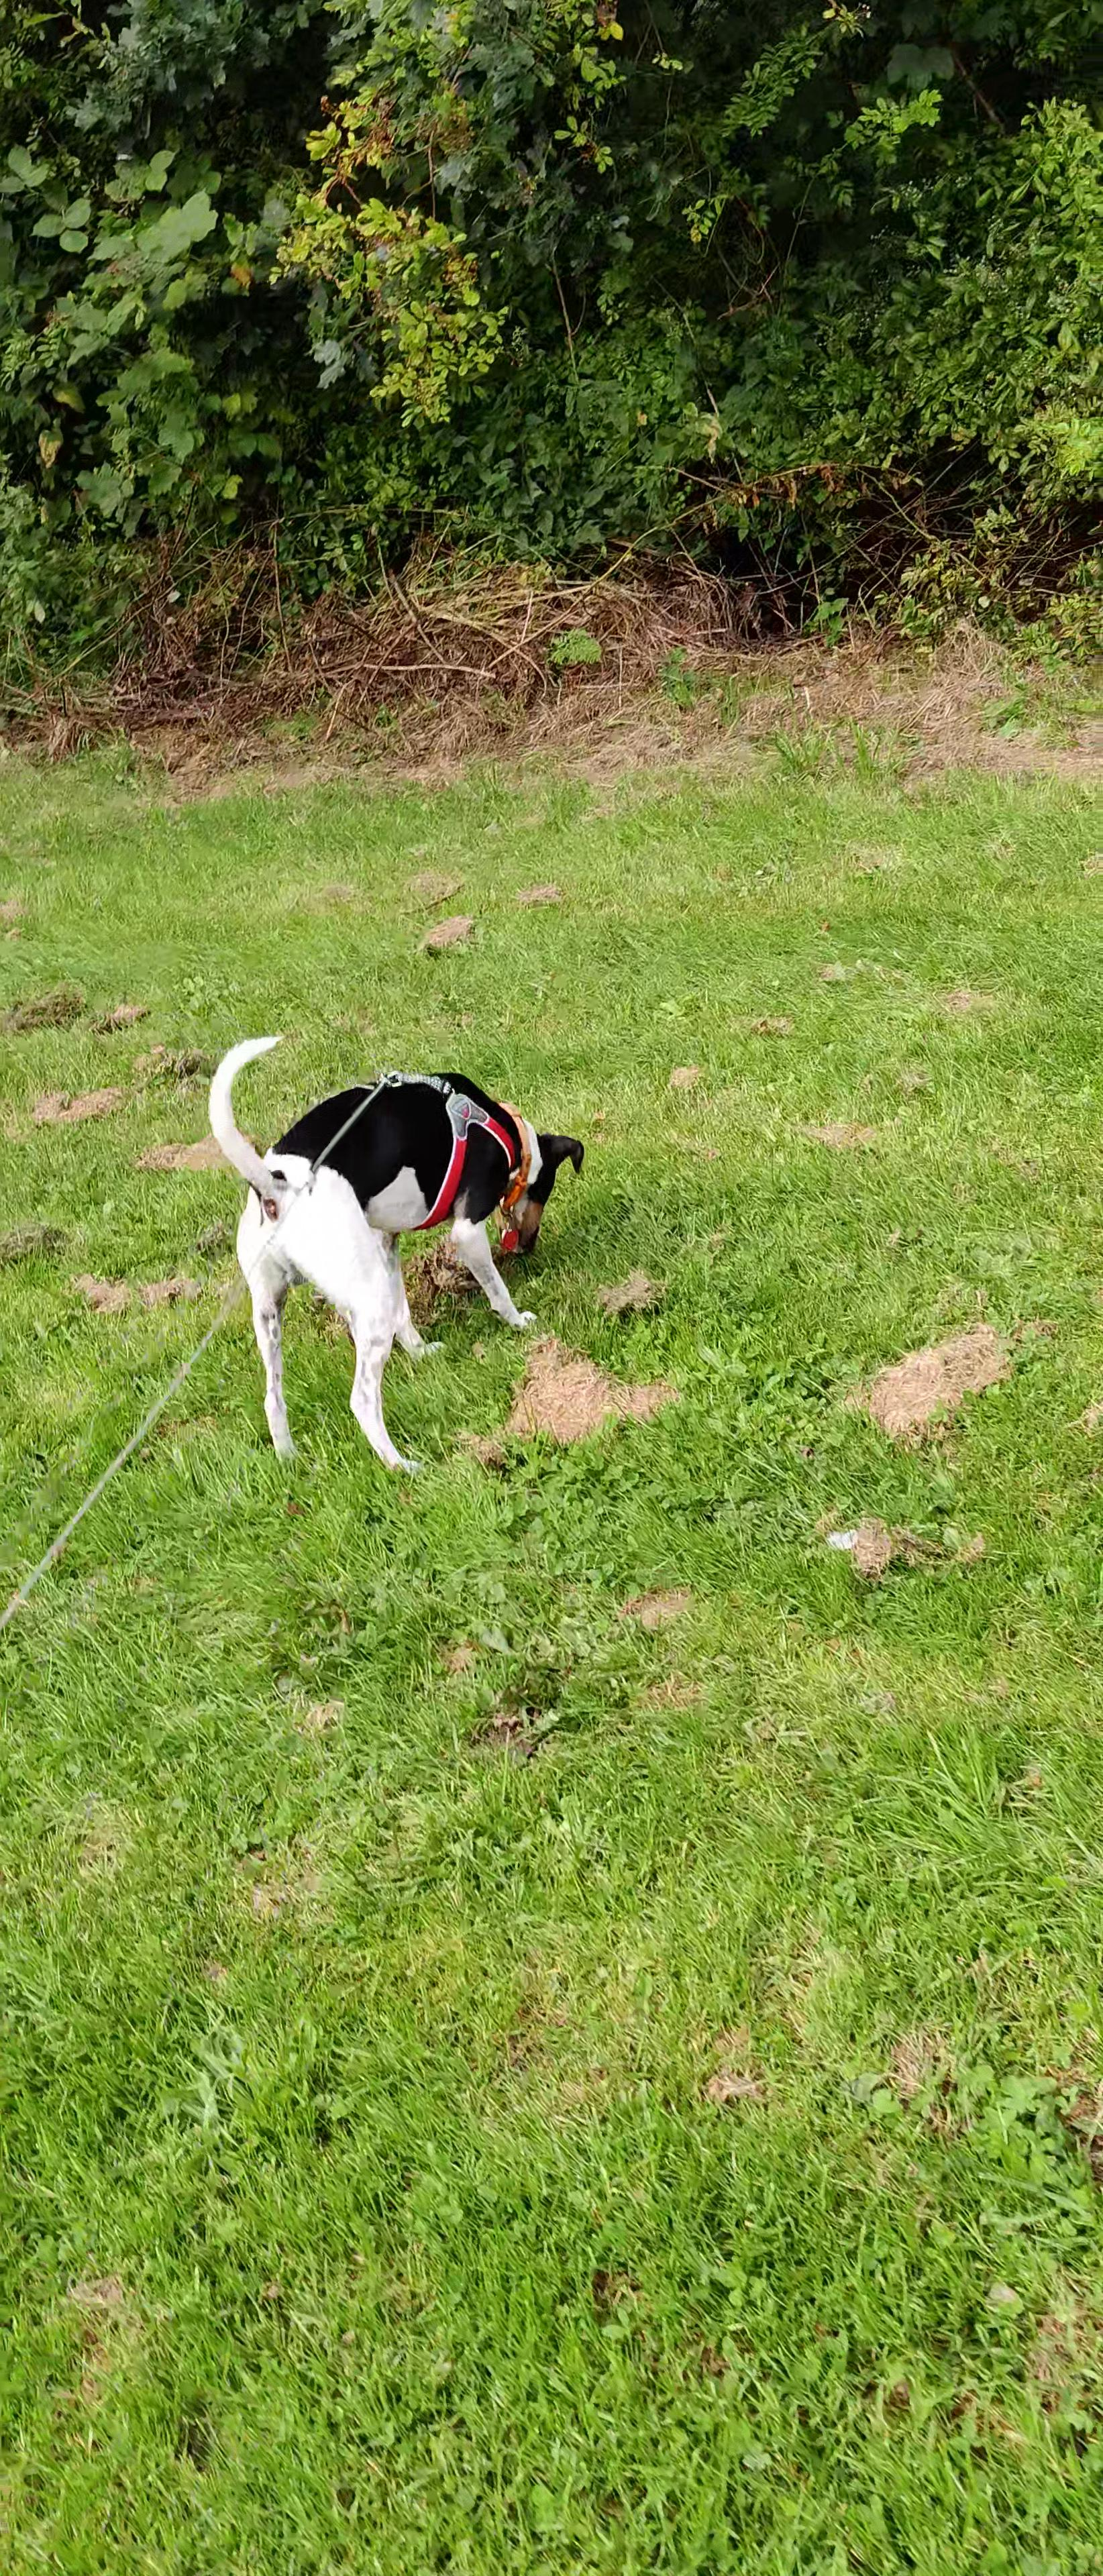Dog: (196, 1025, 590, 1485)
